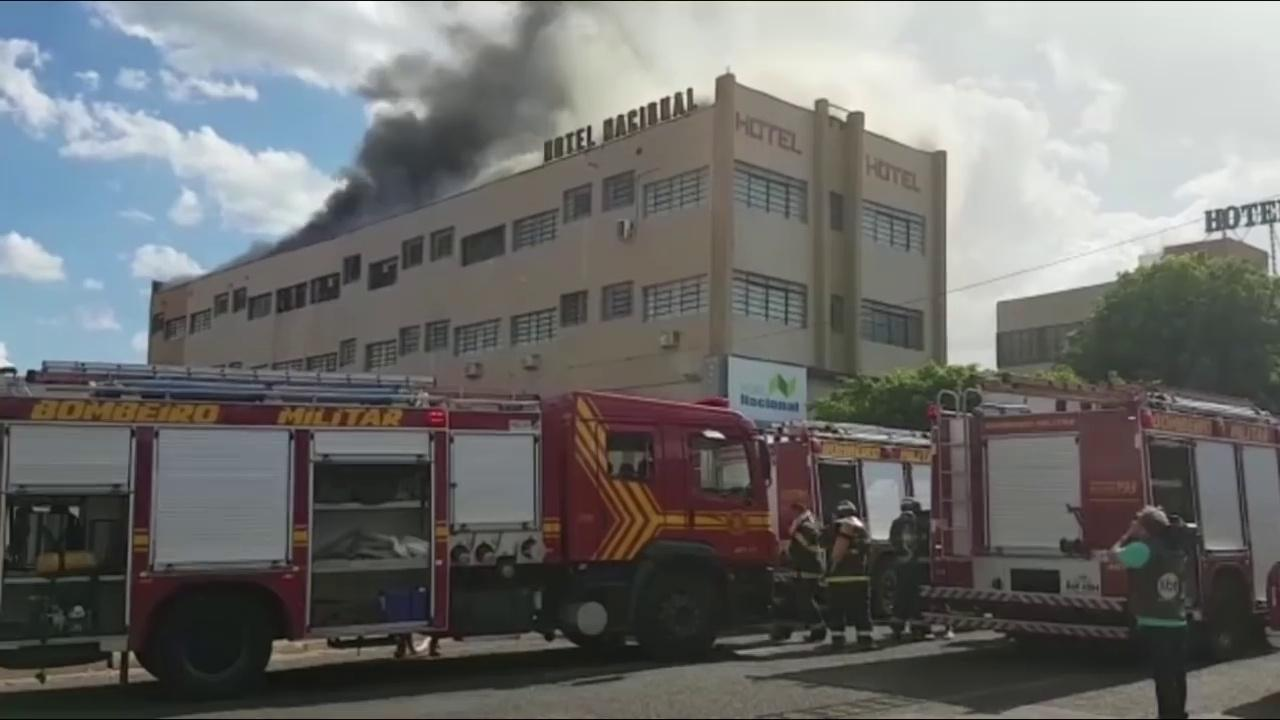smoke: (378, 44, 550, 166)
